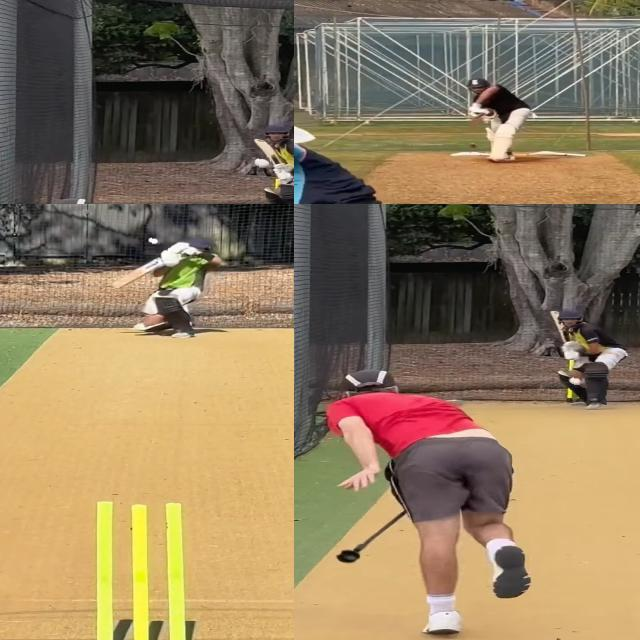Cricket ball: (253, 155, 271, 169), (568, 374, 586, 388), (146, 236, 160, 245), (469, 144, 477, 148)
Stumps: (82, 499, 201, 640)
